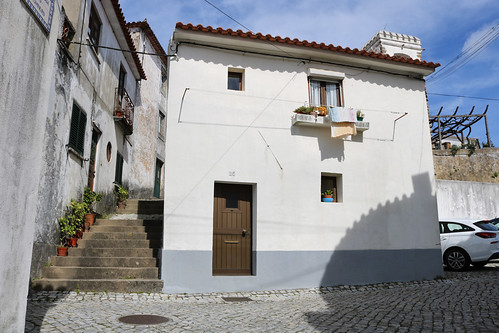medium: (159, 19, 449, 298)
